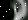person: (11, 1, 28, 20)
